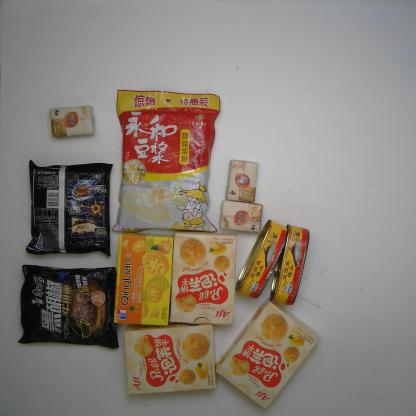Canned Food: (234, 218, 289, 299), (268, 223, 311, 307)
Dessert: (214, 295, 321, 412), (121, 322, 219, 398), (167, 230, 239, 327), (110, 231, 174, 328)
Instant Drink: (111, 88, 221, 236)
Instant Noodles: (14, 261, 120, 352), (23, 158, 115, 259)
Tissue: (46, 104, 98, 140), (223, 157, 260, 204), (218, 200, 264, 234)
